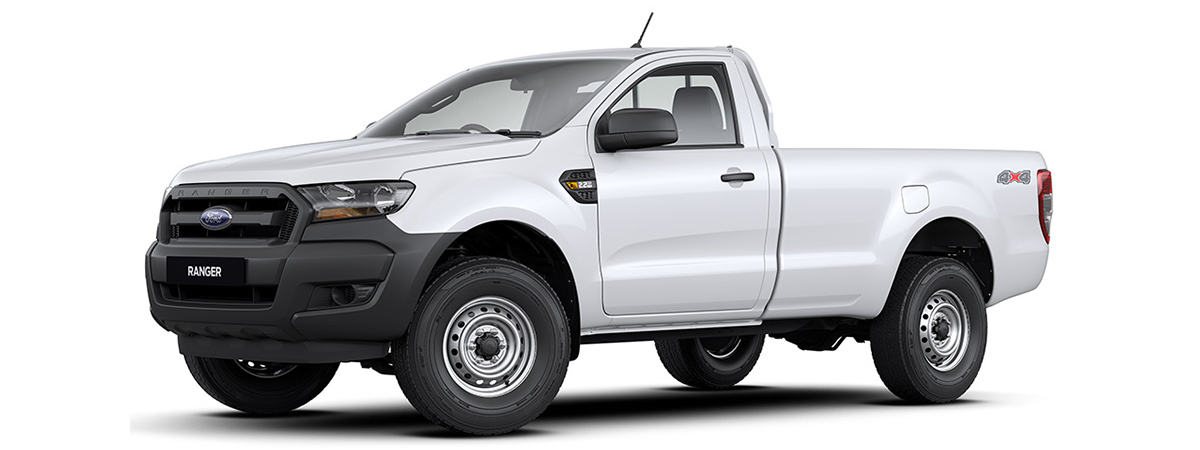pickup: (140, 44, 1059, 434)
